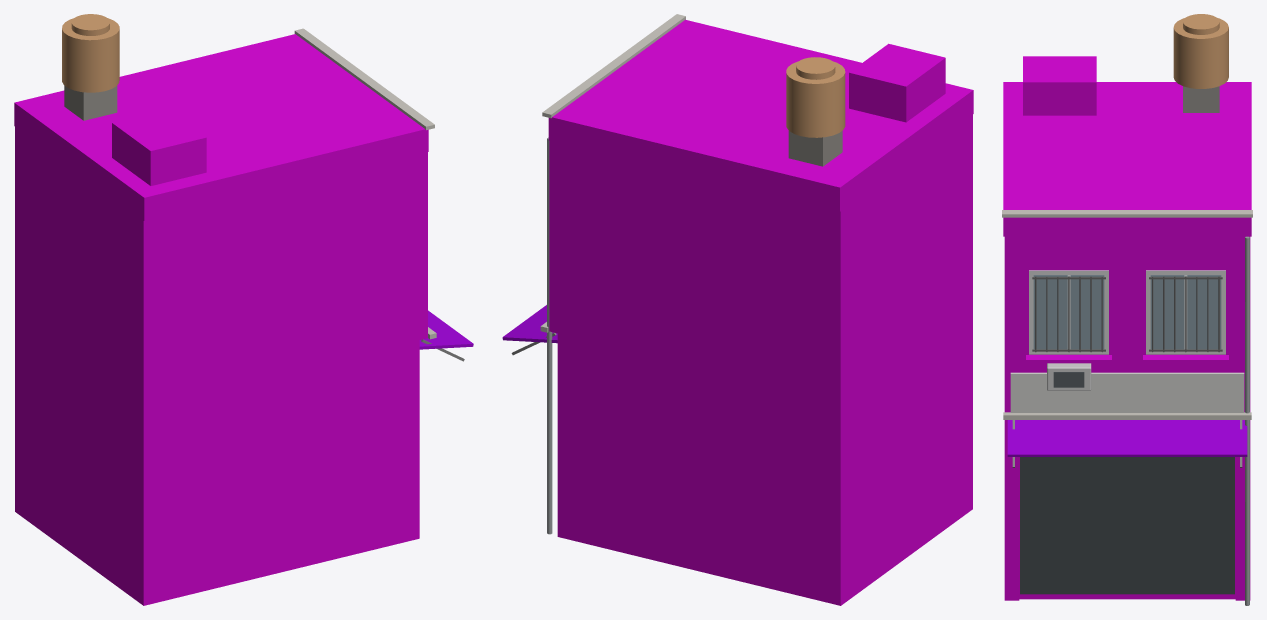
File: ruko.glb
The picture shows the model from 3 angles, left to right: view 1: azimuth 30°, elevation 25°; view 2: azimuth 150°, elevation 25°; view 3: azimuth 270°, elevation 25°; orthographic projection. The views are drawn at different scales.
Parts seen in each view (by area): view 1: main; view 2: main; view 3: main.
Part boxes in pixels (left/top/right/bottom): main: left=14, top=14, right=473, bottom=605; main: left=502, top=14, right=973, bottom=605; main: left=1002, top=14, right=1252, bottom=605.
Bounding box in the file's own units: 5.95 × 8.5 × 4.08.
